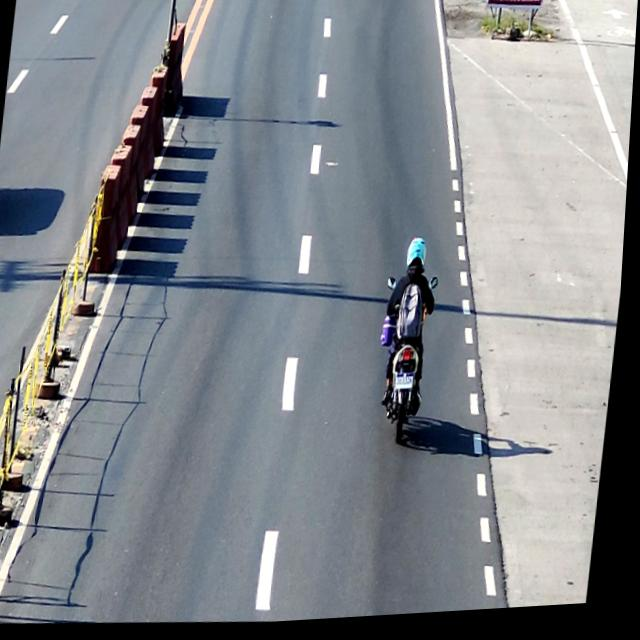License-Plate: (401, 378, 418, 395)
Motorcycle: (375, 279, 443, 451)
